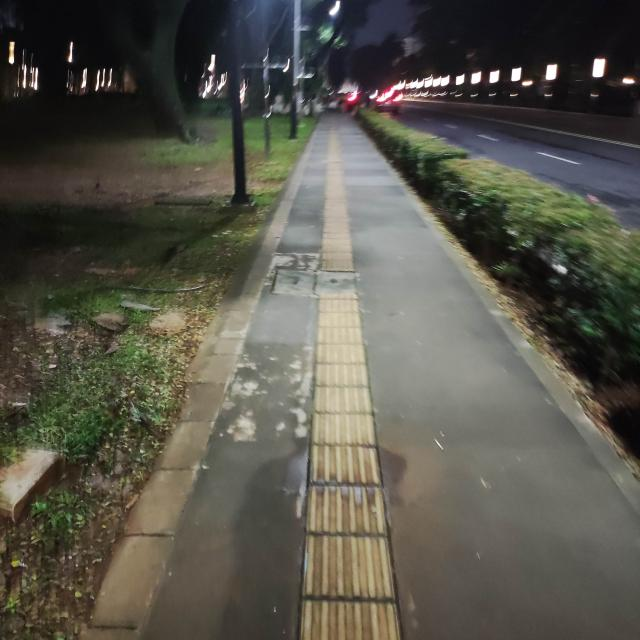lurus: (308, 140, 387, 640)
